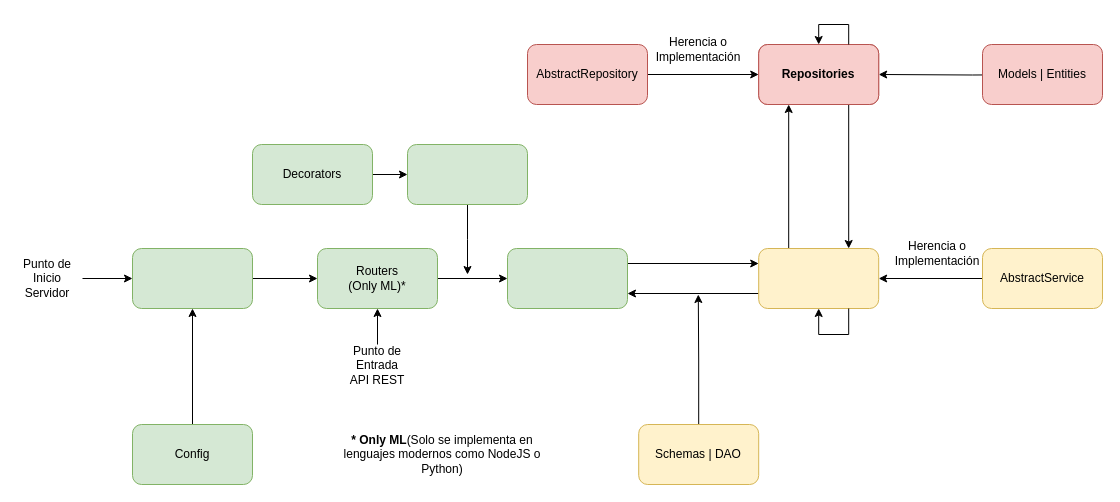
Some shapes in this 1120 by 502 pixel diagram are drawn without their labels. Each missing label, with the centre of its shape:
"Controllers" belongs at (x=567, y=278).
"Main" belongs at (x=192, y=278).
"Middlewares" belongs at (x=467, y=174).
"Services" belongs at (x=818, y=278).
